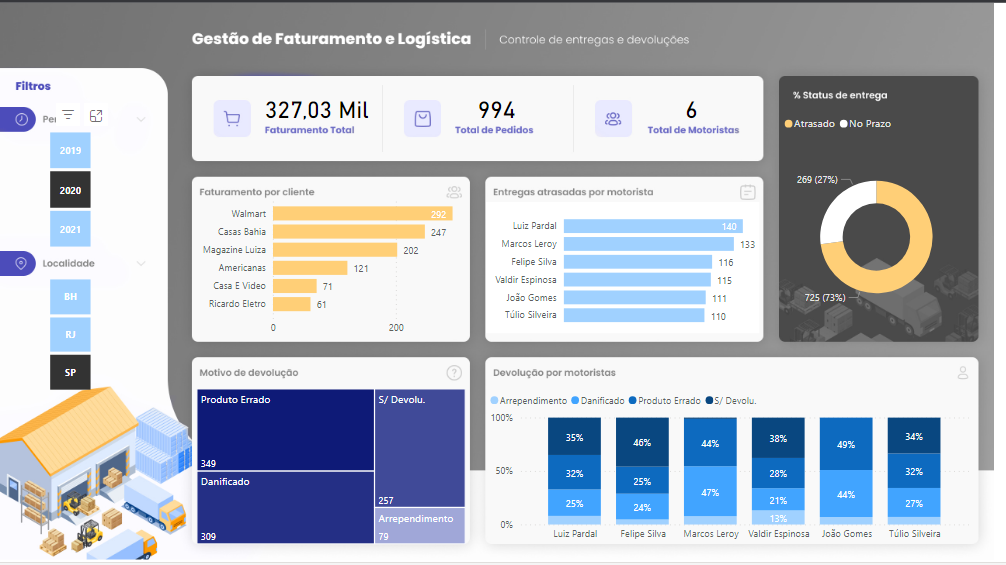

This screenshot's page, from the dashboard's own definition file:
{"tool":"powerbi","page":{"name":"Dashboard","canvas":[1280,720],"ordinal":0},"visuals":[{"type":"card","fields":{"Values":["Sum(baselogistica.R$ Faturados)"]},"box":[281.8,100.7,251.6,70.5],"z":0},{"type":"card","fields":{"Values":["CountNonNull(baselogistica.pedido)"]},"box":[515,77.2,248.3,115.8],"z":1000},{"type":"card","fields":{"Values":["Count(baselogistica.motorista)"]},"box":[775,77.2,229.8,115.8],"z":2000},{"type":"barChart","title":"Pedidos por Cliente","fields":{"Category":["baselogistica.cliente"],"Y":["CountNonNull(baselogistica.pedido)"]},"box":[248.3,239.9,355.6,196.3],"z":3000},{"type":"donutChart","title":"Pedidos por Status","fields":{"Category":["baselogistica.Status"],"Y":["CountNonNull(baselogistica.pedido)"]},"box":[1004.9,135.9,248.3,303.6],"z":4000},{"type":"slicer","fields":{"Values":["baselogistica.Data Emissão Pedido.Variation.Hierarquia de datas.Ano"]},"box":[38.6,159.4,102.3,161],"z":5000},{"type":"slicer","fields":{"Values":["baselogistica.Destino"]},"box":[38.6,348.9,102.3,156],"z":6000},{"type":"barChart","title":"Pedidos Atrasados por Motoristas","fields":{"Category":["baselogistica.motorista"],"Y":["CountNonNull(baselogistica.pedido)"]},"box":[625.7,256.7,352.3,169.4],"z":7000},{"type":"treemap","fields":{"Group":["baselogistica.Mot. Devolução"],"Values":["CountNonNull(baselogistica.pedido)"]},"box":[248.3,491.5,355.6,209.7],"z":8000},{"type":"hundredPercentStackedColumnChart","fields":{"Category":["baselogistica.motorista"],"Y":["CountNonNull(baselogistica.pedido)"],"Series":["baselogistica.Mot. Devolução"]},"box":[625.7,491.5,627.4,209.7],"z":9000}]}

Visuals, with their boxes in screenshot pixels (x1, y1, x2, y2), scaled from the page's 1280x720 canvas onto the 1006x565 screenshot:
card - Sum(baselogistica.R$ Faturados): <box>221,79,419,134</box>
card - CountNonNull(baselogistica.pedido): <box>405,61,600,151</box>
card - Count(baselogistica.motorista): <box>609,61,790,151</box>
"Pedidos por Cliente" barChart: <box>195,188,475,342</box>
"Pedidos por Status" donutChart: <box>790,107,985,345</box>
slicer - baselogistica.Data Emissão Pedido.Variation.Hierarquia de datas.Ano: <box>30,125,111,251</box>
slicer - baselogistica.Destino: <box>30,274,111,396</box>
"Pedidos Atrasados por Motoristas" barChart: <box>492,201,769,334</box>
treemap - baselogistica.Mot. Devolução x CountNonNull(baselogistica.pedido): <box>195,386,475,550</box>
hundredPercentStackedColumnChart - baselogistica.motorista x CountNonNull(baselogistica.pedido): <box>492,386,985,550</box>
